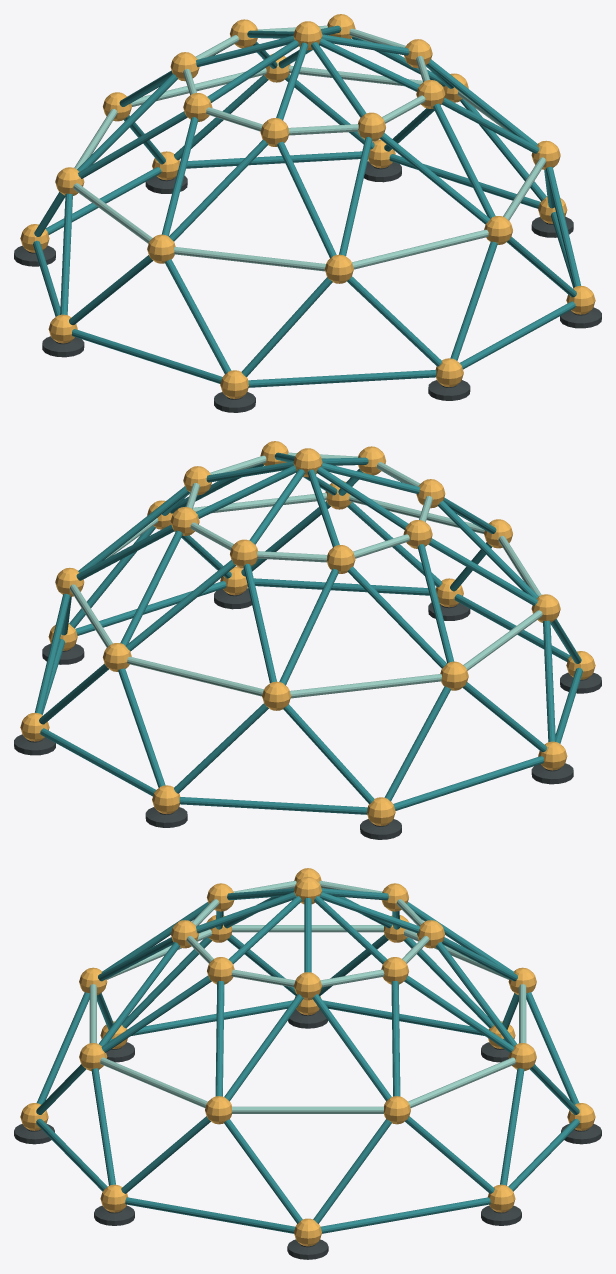
3 renders of one model, top to bottom at view 1: azimuth 30°, elevation 25°; view 2: azimuth 150°, elevation 25°; view 3: azimuth 270°, elevation 25°, orthographic. The views are drawn at different scales.
Parts seen in each view (by area): view 1: Rod_24, Rod_21, Rod_12, Rod_45, Rod_48, Rod_52, Rod_47, Rod_27, Rod_26, Rod_54, Rod_49, Rod_43 (+54 smaller); view 2: Rod_15, Rod_18, Rod_27, Rod_39, Rod_36, Rod_38, Rod_43, Rod_12, Rod_19, Rod_34, Rod_41, Rod_47 (+54 smaller); view 3: Rod_08, Rod_09, Rod_33, Rod_18, Rod_21, Rod_42, Rod_37, Rod_53, Rod_34, Rod_54, Rod_38, Rod_52 (+46 smaller).
Boxes of the visible parts, x1,y1,x2,y2 form: Rod_24: (248, 370, 436, 387); Rod_21: (72, 329, 222, 383); Rod_12: (186, 151, 362, 168); Rod_45: (174, 247, 325, 271); Rod_48: (352, 229, 488, 269); Rod_52: (380, 132, 490, 224); Rod_47: (169, 139, 268, 241); Rod_27: (460, 301, 575, 369); Rod_26: (241, 277, 332, 376); Rod_54: (426, 59, 537, 145); Rod_49: (277, 141, 336, 258); Rod_43: (77, 73, 178, 171); Rod_15: (179, 797, 367, 814); Rod_18: (393, 756, 543, 810); Rod_27: (253, 578, 429, 595); Rod_39: (290, 674, 441, 698); Rod_36: (127, 656, 263, 696); Rod_38: (125, 559, 235, 651); Rod_43: (347, 566, 446, 668); Rod_12: (40, 728, 155, 796); Rod_19: (283, 704, 374, 803); Rod_34: (78, 486, 189, 572); Rod_41: (279, 568, 338, 685); Rod_47: (437, 500, 538, 598); Rod_08: (320, 1197, 490, 1233); Rod_09: (125, 1197, 295, 1233); Rod_33: (232, 1106, 383, 1113); Rod_18: (323, 1000, 488, 1035); Rod_21: (127, 1000, 292, 1035); Rod_42: (232, 925, 383, 932); Rod_37: (404, 975, 514, 1052); Rod_53: (101, 975, 211, 1052); Rod_34: (312, 994, 391, 1100); Rod_54: (224, 994, 303, 1100); Rod_38: (436, 942, 516, 1046); Rod_52: (99, 942, 179, 1046).
Bounding box in the file's own units: 3.44 × 1.66 × 3.44.
